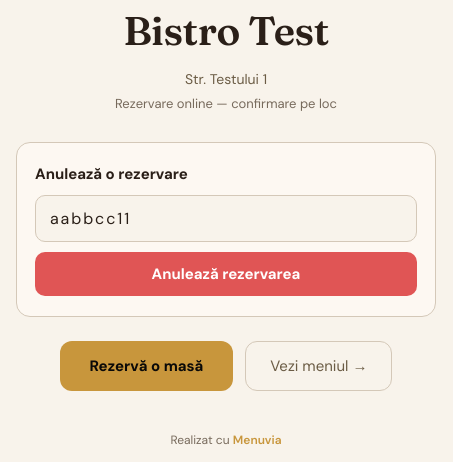
Test: ReservePage — anularea publică pe cod de confirmare › ?cancel=COD deschide cardul cu codul pre-completat și trimite RPC-ul corect
Expected: the field with placeholder "Codul de confirmare (ex. A1B2C3D4)" holds "aabbcc11", [35, 195, 417, 242]
Click the button "Anulează rezervarea" at (226, 274), box [35, 252, 417, 296]
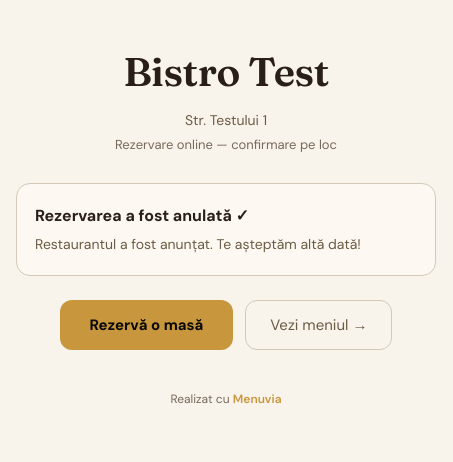
Expected: the text "Rezervarea a fost anulată ✓" is shown, [35, 205, 249, 226]
Expected: the text "Restaurantul a fost anunțat. Te așteptăm altă dată!" is shown, [35, 234, 417, 255]
